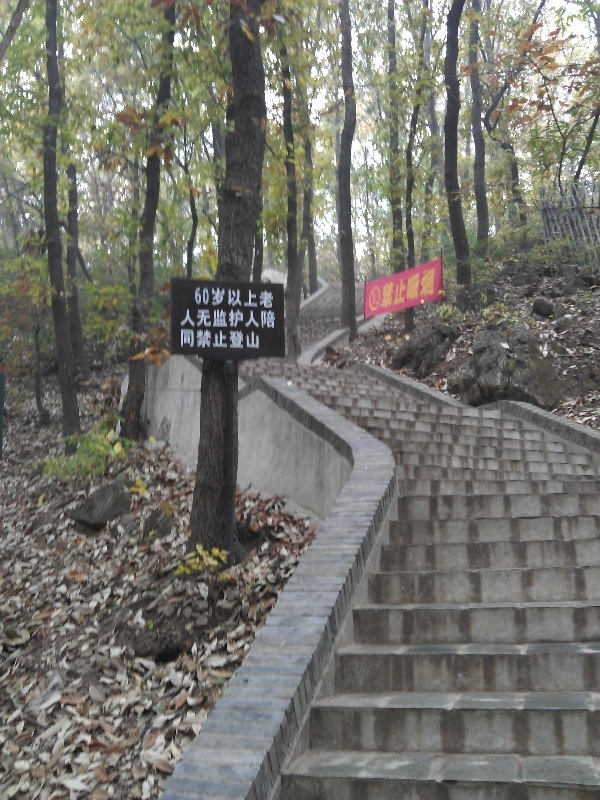text: (385, 267, 400, 310), (401, 267, 416, 310), (417, 267, 432, 310), (209, 287, 224, 309), (225, 287, 240, 309), (241, 287, 256, 309), (257, 287, 272, 309), (193, 307, 208, 329), (209, 307, 224, 329), (225, 307, 240, 329), (241, 307, 256, 329), (257, 307, 272, 329), (193, 329, 208, 350), (209, 329, 224, 350), (225, 329, 240, 350), (241, 329, 256, 350), (195, 287, 208, 309), (181, 307, 192, 329), (181, 329, 192, 350), (433, 267, 437, 310), (257, 329, 262, 350), (273, 307, 277, 329), (382, 267, 384, 310), (273, 287, 275, 309)
